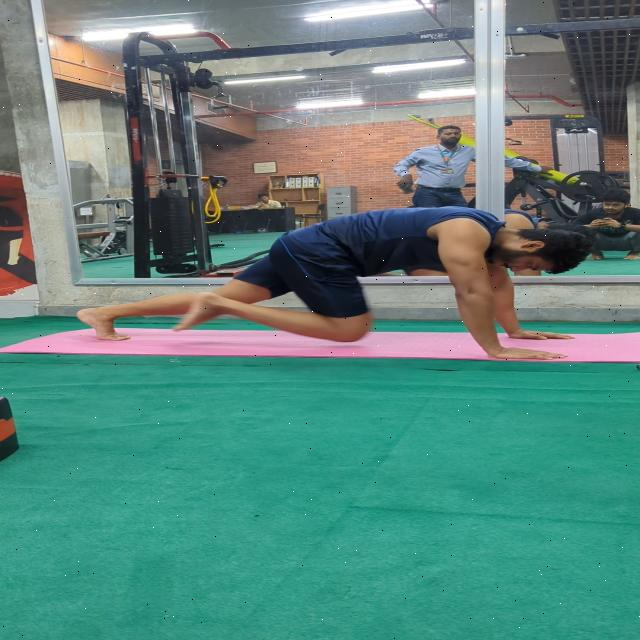Normal_MountainClimbers: (51, 197, 606, 356)
